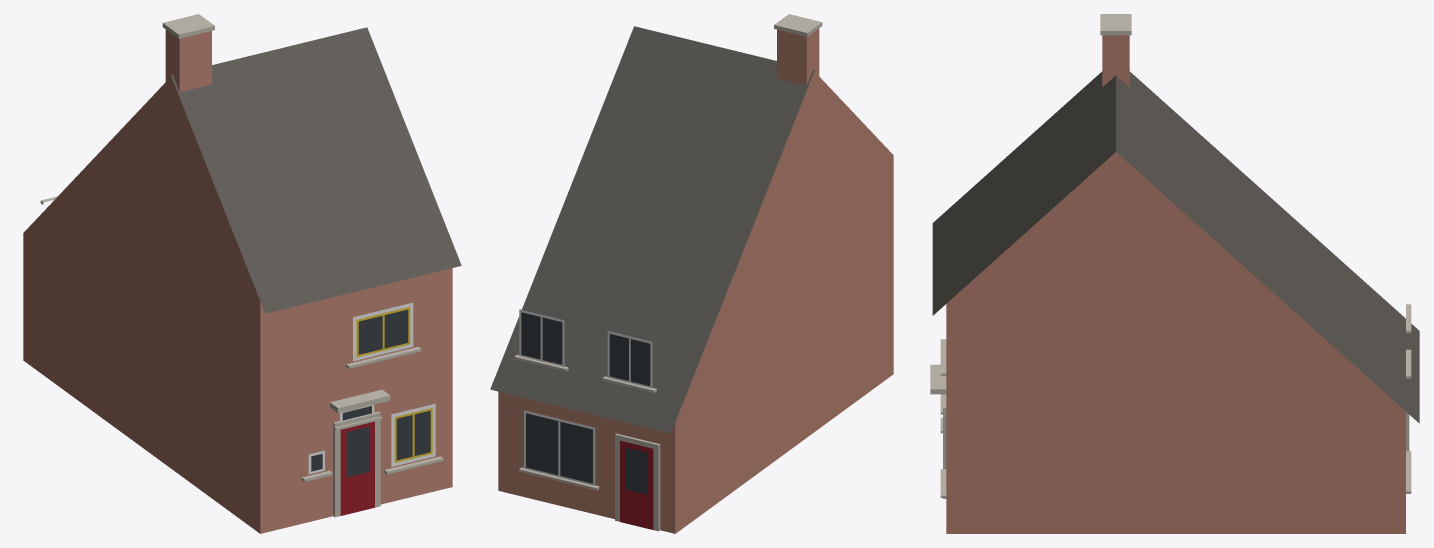
File: nw-ma-red-door__red__2__gable__long__solid__mirror.glb
3 views of the same model, side by side, from view 1: azimuth 30°, elevation 25°; view 2: azimuth 150°, elevation 25°; view 3: azimuth 270°, elevation 25° (orthographic). The views are drawn at different scales.
Visible parts, largest first — view 1: nw-ma-red-door__red__2__gable__long__solid__mirror; view 2: nw-ma-red-door__red__2__gable__long__solid__mirror; view 3: nw-ma-red-door__red__2__gable__long__solid__mirror.
Part boxes in pixels (x1,y1,x2,y2): nw-ma-red-door__red__2__gable__long__solid__mirror: [23, 14, 461, 533]; nw-ma-red-door__red__2__gable__long__solid__mirror: [490, 14, 893, 533]; nw-ma-red-door__red__2__gable__long__solid__mirror: [930, 14, 1419, 533].
Bounding box in the file's own units: 4.88 × 10.47 × 10.85.
